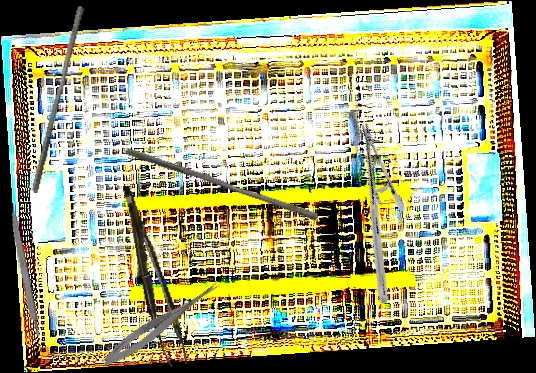Micro Scissor: (98, 273, 224, 373)
Needle Holder: (289, 121, 460, 306)
Pusher: (121, 147, 322, 222), (30, 4, 86, 195)
Scalpel Handle: (6, 205, 42, 340)
Tissue Forceps: (122, 180, 188, 370)
